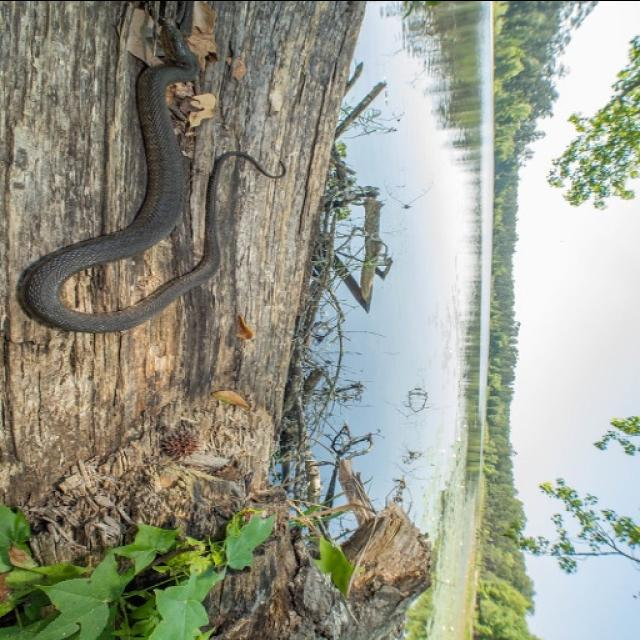snake: (18, 21, 290, 347)
